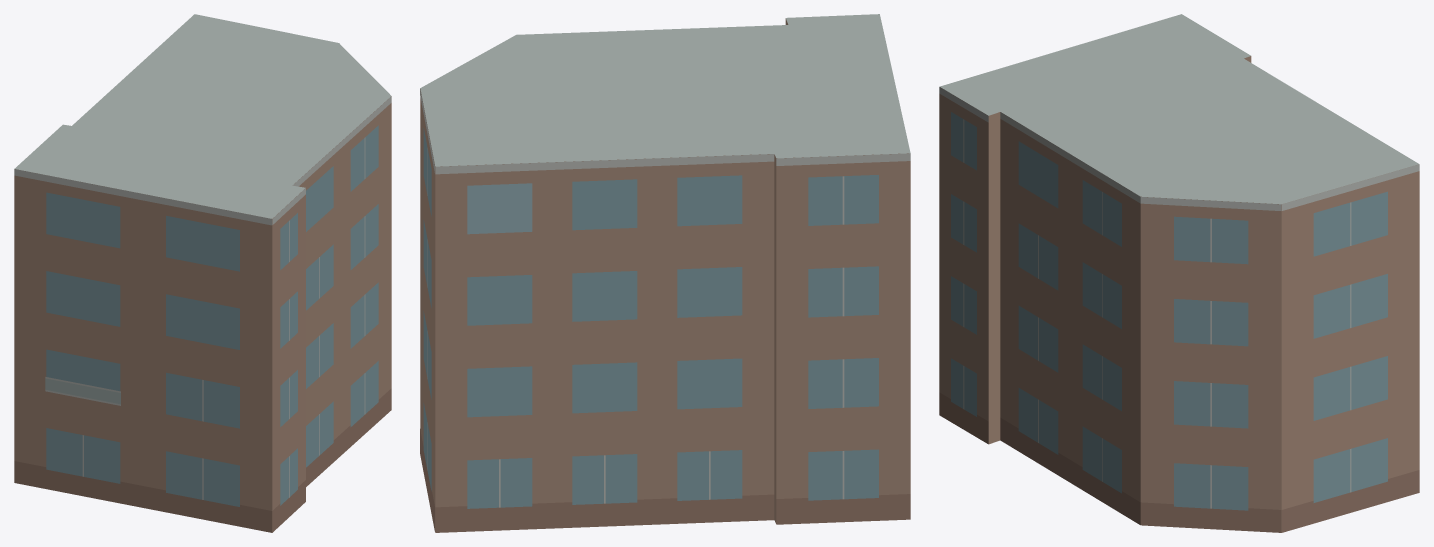
The model's file is survey-upis-32747894.glb.
The picture shows the model from 3 angles, left to right: view 1: azimuth 30°, elevation 25°; view 2: azimuth 150°, elevation 25°; view 3: azimuth 270°, elevation 25°; orthographic projection. The views are drawn at different scales.
Parts seen in each view (by area): view 1: survey-upis-32747894.tmp; view 2: survey-upis-32747894.tmp; view 3: survey-upis-32747894.tmp.
Boxes of the visible parts, x1=… form: survey-upis-32747894.tmp: x1=14, y1=14, x2=391, y2=532; survey-upis-32747894.tmp: x1=420, y1=14, x2=910, y2=532; survey-upis-32747894.tmp: x1=939, y1=14, x2=1419, y2=532.
Bounding box in the file's own units: 14.41 × 11.6 × 15.37.
